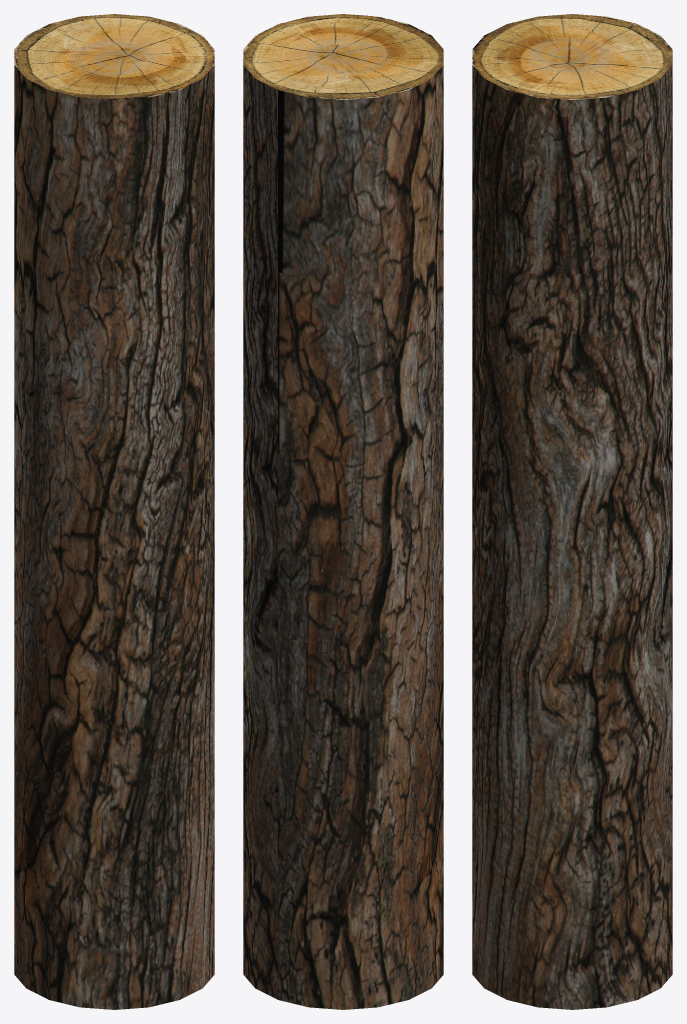
File: timber.FBX
The picture shows the model from 3 angles, left to right: view 1: azimuth 30°, elevation 25°; view 2: azimuth 150°, elevation 25°; view 3: azimuth 270°, elevation 25°; orthographic projection.
Parts seen in each view (by area): view 1: Cylinder001; view 2: Cylinder001; view 3: Cylinder001.
Part boxes in pixels (x1=…): Cylinder001: x1=14, y1=14, x2=214, y2=1009; Cylinder001: x1=243, y1=14, x2=443, y2=1009; Cylinder001: x1=472, y1=14, x2=672, y2=1009.
Size of the model in its own units: 10.53 by 51.91 by 10.37.
